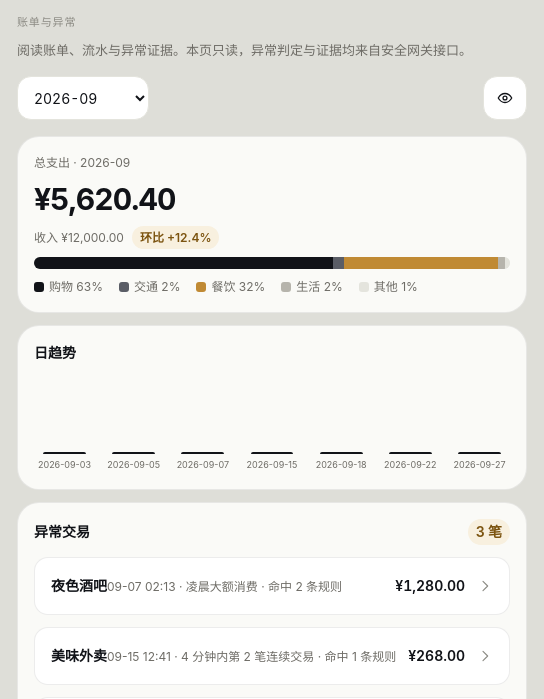
Test: bills page › no-anomaly month does not render large anomaly placeholder
Check: the text "总支出 · 2026-09" is shown, box [34, 155, 130, 170]
Step 1. Select "2026-08" in the dropdown named "月份" → (83, 98), box [17, 76, 149, 120]
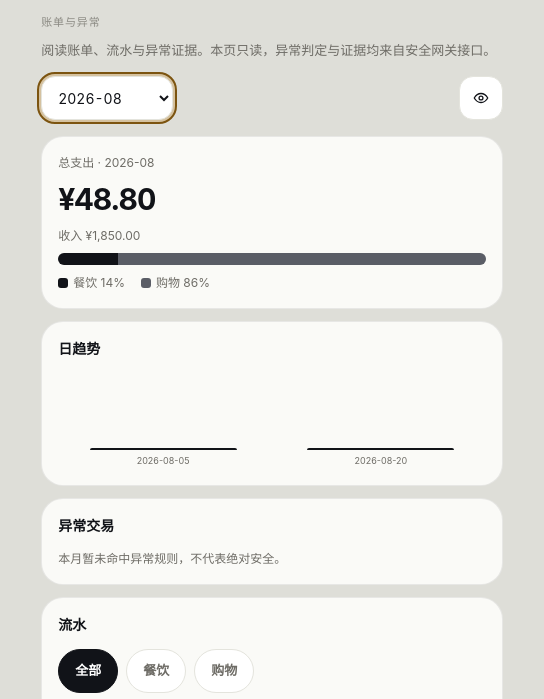
Check: the text "本月暂未命中异常规则，不代表绝对安全。" is shown, box [58, 551, 286, 566]
